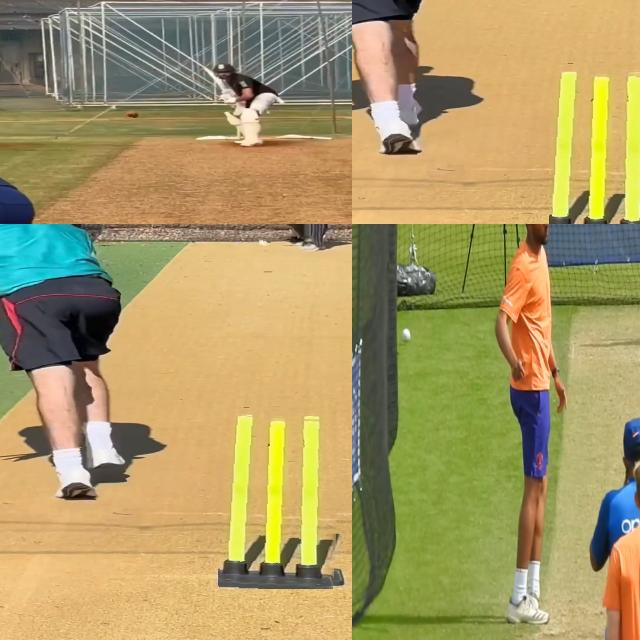Cricket ball: (258, 239, 272, 247), (402, 328, 410, 342), (127, 111, 139, 118)
Stumps: (218, 414, 342, 589), (549, 68, 640, 224)
